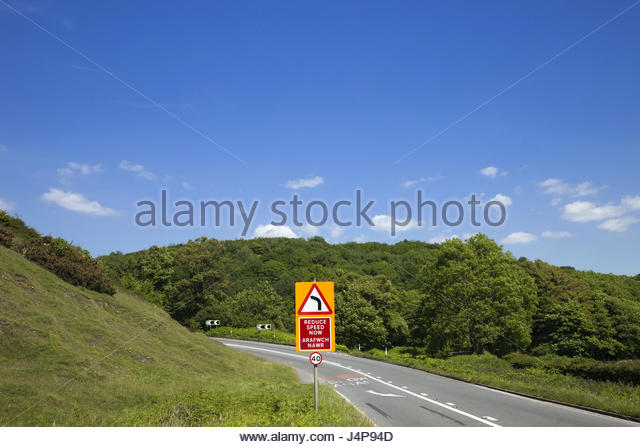Bend_to_left: (296, 282, 334, 316)
